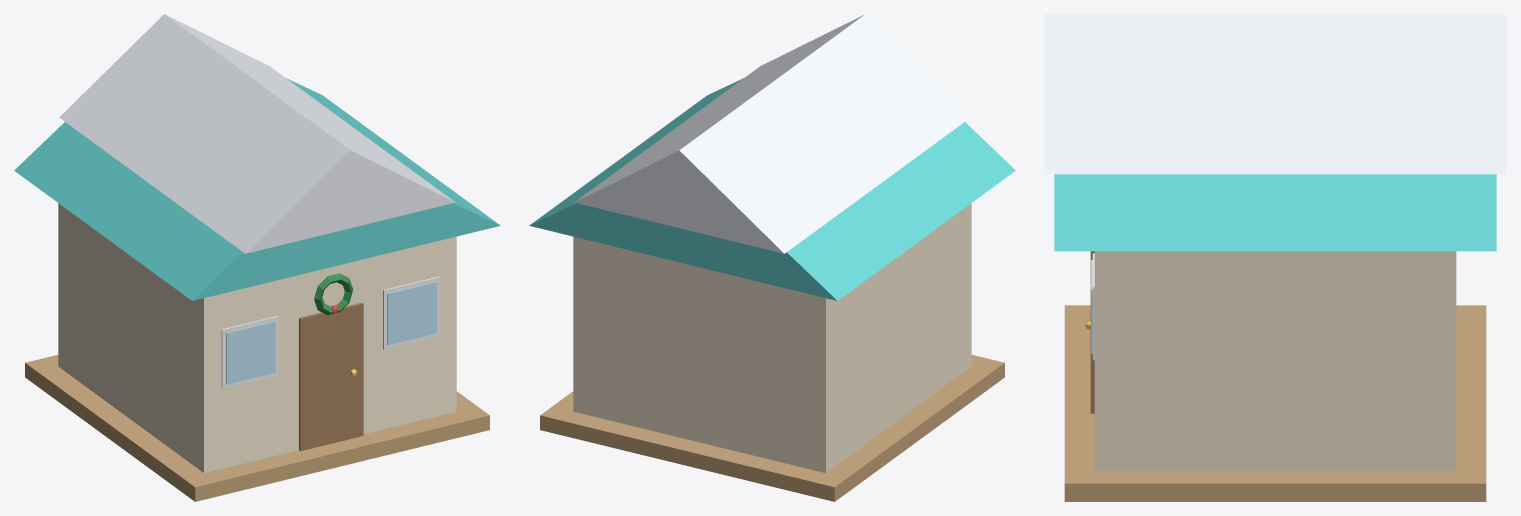
The model's file is Casa.fbx.
The picture shows the model from 3 angles, left to right: view 1: azimuth 30°, elevation 25°; view 2: azimuth 150°, elevation 25°; view 3: azimuth 270°, elevation 25°; orthographic projection. The views are drawn at different scales.
Parts seen in each view (by area): view 1: Paredes, NieveTecho, Techo, Base, Puerta, VentanaD, VentanaI, MarcoI, MarcoD, Corona; view 2: Paredes, NieveTecho, Techo, Base; view 3: Paredes, NieveTecho, Techo, Base.
Part boxes in pixels (x1,y1,x2,y2): Paredes: (58, 203, 456, 473); NieveTecho: (59, 14, 455, 253); Techo: (14, 78, 500, 300); Base: (25, 355, 489, 501); Puerta: (299, 302, 363, 451); VentanaD: (387, 281, 436, 345); VentanaI: (226, 321, 275, 384); MarcoI: (221, 316, 278, 388); MarcoD: (383, 276, 439, 349); Corona: (314, 273, 353, 315); Paredes: (573, 203, 971, 473); NieveTecho: (574, 14, 970, 253); Techo: (529, 78, 1015, 300); Base: (540, 355, 1004, 501); Paredes: (1094, 251, 1456, 470); NieveTecho: (1044, 14, 1506, 174); Techo: (1054, 174, 1496, 251); Base: (1064, 305, 1486, 501).
Size of the model in its own units: 4.4 by 4.38 by 4.6.
